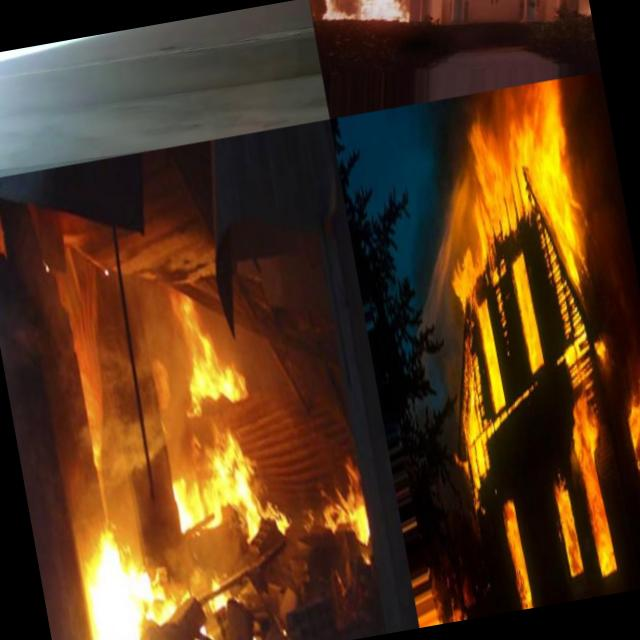fire: (422, 80, 595, 303), (160, 416, 280, 542), (69, 511, 178, 640), (560, 375, 628, 578), (437, 358, 508, 516), (310, 430, 381, 568), (174, 304, 248, 410), (498, 474, 539, 610), (546, 465, 588, 580), (308, 0, 430, 31), (614, 338, 640, 470), (199, 568, 242, 620)
